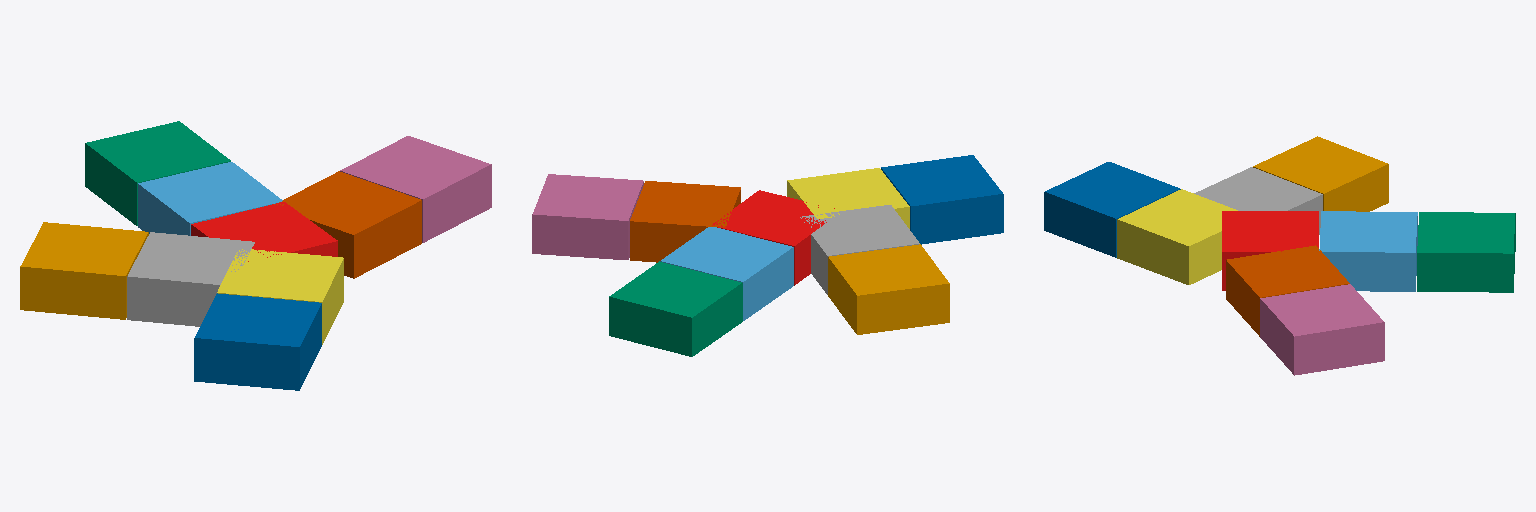
URDF robot description (Model_834):
<?xml version='1.0' encoding='UTF-8'?>
<robot name="Model_834">
  <link name="base_link">
    <inertial>
      <origin xyz="0.0 0.0 0.0" rpy="0.0 -0.0 0.0"/>
      <mass value="1.0"/>
      <inertia ixx="1.0" ixy="0.0" ixz="0.0" iyy="1.0" iyz="0.0" izz="1.0"/>
    </inertial>
    <visual>
      <geometry>
        <box size="0.67 0.67 0.3 "/>
      </geometry>
      <material name="red"/>
      <origin xyz="0.0 0.0 0.0" rpy="0.0 -0.0 0.0"/>
    </visual>
    <collision>
      <geometry>
        <box size="0.67 0.67 0.3 "/>
      </geometry>
      <origin xyz="0.0 0.0 0.0" rpy="0.0 0.0 0.0"/>
    </collision>
  </link>
  <link name="arm_0_arm1">
    <inertial>
      <origin xyz="0.0 0.34 0.0" rpy="0.0 0.0 0.0"/>
      <mass value="1.0"/>
      <inertia ixx="0.0" ixy="0.0" ixz="0.0" iyy="0.0" iyz="0.0" izz="0.0"/>
    </inertial>
    <visual>
      <geometry>
        <box size="0.67 0.67 0.3 "/>
      </geometry>
      <origin xyz="0.0 0.34 0.0" rpy="0.0 0.0 0.0"/>
    </visual>
    <collision>
      <geometry>
        <box size="0.67 0.67 0.3 "/>
      </geometry>
      <origin xyz="0.0 0.34 0.0" rpy="0.0 0.0 0.0"/>
    </collision>
  </link>
  <link name="arm_0_arm2">
    <inertial>
      <origin xyz="0.0 0.34 0.0" rpy="0.0 0.0 0.0"/>
      <mass value="1.0"/>
      <inertia ixx="0.0" ixy="0.0" ixz="0.0" iyy="0.0" iyz="0.0" izz="0.0"/>
    </inertial>
    <visual>
      <geometry>
        <box size="0.67 0.67 0.3 "/>
      </geometry>
      <origin xyz="0.0 0.34 0.0" rpy="0.0 0.0 0.0"/>
    </visual>
    <collision>
      <geometry>
        <box size="0.67 0.67 0.3 "/>
      </geometry>
      <origin xyz="0.0 0.34 0.0" rpy="0.0 0.0 0.0"/>
    </collision>
  </link>
  <link name="arm_1_arm1">
    <inertial>
      <origin xyz="0.0 0.34 0.0" rpy="0.0 0.0 0.0"/>
      <mass value="1.0"/>
      <inertia ixx="0.0" ixy="0.0" ixz="0.0" iyy="0.0" iyz="0.0" izz="0.0"/>
    </inertial>
    <visual>
      <geometry>
        <box size="0.67 0.67 0.3 "/>
      </geometry>
      <origin xyz="0.0 0.34 0.0" rpy="0.0 0.0 0.0"/>
    </visual>
    <collision>
      <geometry>
        <box size="0.67 0.67 0.3 "/>
      </geometry>
      <origin xyz="0.0 0.34 0.0" rpy="0.0 0.0 0.0"/>
    </collision>
  </link>
  <link name="arm_1_arm2">
    <inertial>
      <origin xyz="0.0 0.34 0.0" rpy="0.0 0.0 0.0"/>
      <mass value="1.0"/>
      <inertia ixx="0.0" ixy="0.0" ixz="0.0" iyy="0.0" iyz="0.0" izz="0.0"/>
    </inertial>
    <visual>
      <geometry>
        <box size="0.67 0.67 0.3 "/>
      </geometry>
      <origin xyz="0.0 0.34 0.0" rpy="0.0 0.0 0.0"/>
    </visual>
    <collision>
      <geometry>
        <box size="0.67 0.67 0.3 "/>
      </geometry>
      <origin xyz="0.0 0.34 0.0" rpy="0.0 0.0 0.0"/>
    </collision>
  </link>
  <link name="arm_2_arm1">
    <inertial>
      <origin xyz="0.0 0.34 0.0" rpy="0.0 0.0 0.0"/>
      <mass value="1.0"/>
      <inertia ixx="0.0" ixy="0.0" ixz="0.0" iyy="0.0" iyz="0.0" izz="0.0"/>
    </inertial>
    <visual>
      <geometry>
        <box size="0.67 0.67 0.3 "/>
      </geometry>
      <origin xyz="0.0 0.34 0.0" rpy="0.0 0.0 0.0"/>
    </visual>
    <collision>
      <geometry>
        <box size="0.67 0.67 0.3 "/>
      </geometry>
      <origin xyz="0.0 0.34 0.0" rpy="0.0 0.0 0.0"/>
    </collision>
  </link>
  <link name="arm_2_arm2">
    <inertial>
      <origin xyz="0.0 0.34 0.0" rpy="0.0 0.0 0.0"/>
      <mass value="1.0"/>
      <inertia ixx="0.0" ixy="0.0" ixz="0.0" iyy="0.0" iyz="0.0" izz="0.0"/>
    </inertial>
    <visual>
      <geometry>
        <box size="0.67 0.67 0.3 "/>
      </geometry>
      <origin xyz="0.0 0.34 0.0" rpy="0.0 0.0 0.0"/>
    </visual>
    <collision>
      <geometry>
        <box size="0.67 0.67 0.3 "/>
      </geometry>
      <origin xyz="0.0 0.34 0.0" rpy="0.0 0.0 0.0"/>
    </collision>
  </link>
  <link name="arm_3_arm1">
    <inertial>
      <origin xyz="0.0 0.34 0.0" rpy="0.0 0.0 0.0"/>
      <mass value="1.0"/>
      <inertia ixx="0.0" ixy="0.0" ixz="0.0" iyy="0.0" iyz="0.0" izz="0.0"/>
    </inertial>
    <visual>
      <geometry>
        <box size="0.67 0.67 0.3 "/>
      </geometry>
      <origin xyz="0.0 0.34 0.0" rpy="0.0 0.0 0.0"/>
    </visual>
    <collision>
      <geometry>
        <box size="0.67 0.67 0.3 "/>
      </geometry>
      <origin xyz="0.0 0.34 0.0" rpy="0.0 0.0 0.0"/>
    </collision>
  </link>
  <link name="arm_3_arm2">
    <inertial>
      <origin xyz="0.0 0.34 0.0" rpy="0.0 0.0 0.0"/>
      <mass value="1.0"/>
      <inertia ixx="0.0" ixy="0.0" ixz="0.0" iyy="0.0" iyz="0.0" izz="0.0"/>
    </inertial>
    <visual>
      <geometry>
        <box size="0.67 0.67 0.3 "/>
      </geometry>
      <origin xyz="0.0 0.34 0.0" rpy="0.0 0.0 0.0"/>
    </visual>
    <collision>
      <geometry>
        <box size="0.67 0.67 0.3 "/>
      </geometry>
      <origin xyz="0.0 0.34 0.0" rpy="0.0 0.0 0.0"/>
    </collision>
  </link>
  <joint name="arm_0_jointBase" type="fixed">
    <limit effort="1.57" velocity="1.57" lower="-1.57" upper="1.57"/>
    <parent link="base_link"/>
    <child link="arm_0_arm1"/>
    <axis xyz="1. 0. 0."/>
    <origin xyz="0.0 0.34 0.0" rpy="0.0 0.0 -0.02"/>
  </joint>
  <joint name="arm_0_joint1" type="revolute">
    <limit effort="1.57" velocity="1.57" lower="-1.57" upper="1.57"/>
    <parent link="arm_0_arm1"/>
    <child link="arm_0_arm2"/>
    <axis xyz="1. 0. 0."/>
    <origin xyz="0.0 0.68 0.0" rpy="0.0 0.0 0.0"/>
  </joint>
  <joint name="arm_1_jointBase" type="fixed">
    <limit effort="1.57" velocity="1.57" lower="-1.57" upper="1.57"/>
    <parent link="base_link"/>
    <child link="arm_1_arm1"/>
    <axis xyz="1. 0. 0."/>
    <origin xyz="0.0 -0.34 0.0" rpy="0.0 0.0 2.41"/>
  </joint>
  <joint name="arm_1_joint1" type="revolute">
    <limit effort="1.57" velocity="1.57" lower="-1.57" upper="1.57"/>
    <parent link="arm_1_arm1"/>
    <child link="arm_1_arm2"/>
    <axis xyz="1. 0. 0."/>
    <origin xyz="0.0 0.68 0.0" rpy="0.0 0.0 0.0"/>
  </joint>
  <joint name="arm_2_jointBase" type="fixed">
    <limit effort="1.57" velocity="1.57" lower="-1.57" upper="1.57"/>
    <parent link="base_link"/>
    <child link="arm_2_arm1"/>
    <axis xyz="1. 0. 0."/>
    <origin xyz="0.34 0.0 0.0" rpy="0.0 0.0 -1.21"/>
  </joint>
  <joint name="arm_2_joint1" type="revolute">
    <limit effort="1.57" velocity="1.57" lower="-1.57" upper="1.57"/>
    <parent link="arm_2_arm1"/>
    <child link="arm_2_arm2"/>
    <axis xyz="1. 0. 0."/>
    <origin xyz="0.0 0.68 0.0" rpy="0.0 0.0 0.0"/>
  </joint>
  <joint name="arm_3_jointBase" type="fixed">
    <limit effort="1.57" velocity="1.57" lower="-1.57" upper="1.57"/>
    <parent link="base_link"/>
    <child link="arm_3_arm1"/>
    <axis xyz="1. 0. 0."/>
    <origin xyz="-0.34 -0.34 0.0" rpy="0.0 0.0 0.83"/>
  </joint>
  <joint name="arm_3_joint1" type="revolute">
    <limit effort="1.57" velocity="1.57" lower="-1.57" upper="1.57"/>
    <parent link="arm_3_arm1"/>
    <child link="arm_3_arm2"/>
    <axis xyz="1. 0. 0."/>
    <origin xyz="0.0 0.68 0.0" rpy="0.0 0.0 0.0"/>
  </joint>
  <material name="red">
    <color rgba="0.969 0.129 0.122 1.   "/>
  </material>
</robot>

--- Render facts (derived) ---
The picture shows the robot from 3 angles, left to right: view 1: azimuth 30°, elevation 25°; view 2: azimuth 150°, elevation 25°; view 3: azimuth 270°, elevation 25°; orthographic projection.
Robot: Model_834 — 9 links, 8 joints (4 revolute, 4 fixed); root link base_link; default pose: all joints at 0.
Links seen in each view (by area): view 1: arm_1_arm2, arm_3_arm2, arm_2_arm1, arm_3_arm1, arm_2_arm2, arm_0_arm2, arm_0_arm1, arm_1_arm1, base_link; view 2: arm_0_arm2, arm_3_arm2, arm_2_arm2, arm_1_arm2, arm_2_arm1, arm_0_arm1, arm_3_arm1, base_link, arm_1_arm1; view 3: arm_2_arm2, arm_0_arm2, arm_1_arm1, arm_0_arm1, arm_1_arm2, arm_3_arm2, arm_2_arm1, base_link, arm_3_arm1.
Link boxes in pixels (x1,y1,x2,y2): arm_1_arm2: (194,293,321,390); arm_3_arm2: (20,222,148,319); arm_2_arm1: (274,171,421,278); arm_3_arm1: (127,232,254,326); arm_2_arm2: (340,136,491,242); arm_0_arm2: (85,121,230,225); arm_0_arm1: (138,162,282,235); arm_1_arm1: (217,249,343,344); base_link: (191,202,337,261); arm_0_arm2: (609,261,742,356); arm_3_arm2: (828,244,949,334); arm_2_arm2: (532,174,643,259); arm_1_arm2: (881,155,1003,244); arm_2_arm1: (630,181,740,262); arm_0_arm1: (660,227,793,320); arm_3_arm1: (800,205,919,294); base_link: (712,190,834,285); arm_1_arm1: (787,168,909,228); arm_2_arm2: (1260,284,1384,375); arm_0_arm2: (1417,212,1515,292); arm_1_arm1: (1117,189,1237,284); arm_0_arm1: (1319,211,1417,291); arm_1_arm2: (1044,162,1180,257); arm_3_arm2: (1253,136,1388,211); arm_2_arm1: (1226,245,1349,336); base_link: (1222,211,1318,290); arm_3_arm1: (1194,167,1322,234).
Bounding box of the posed robot: 3.29 × 3.27 × 0.3 m (x, y, z).
Geometry: primitives only (box / cylinder / sphere), no mesh files.